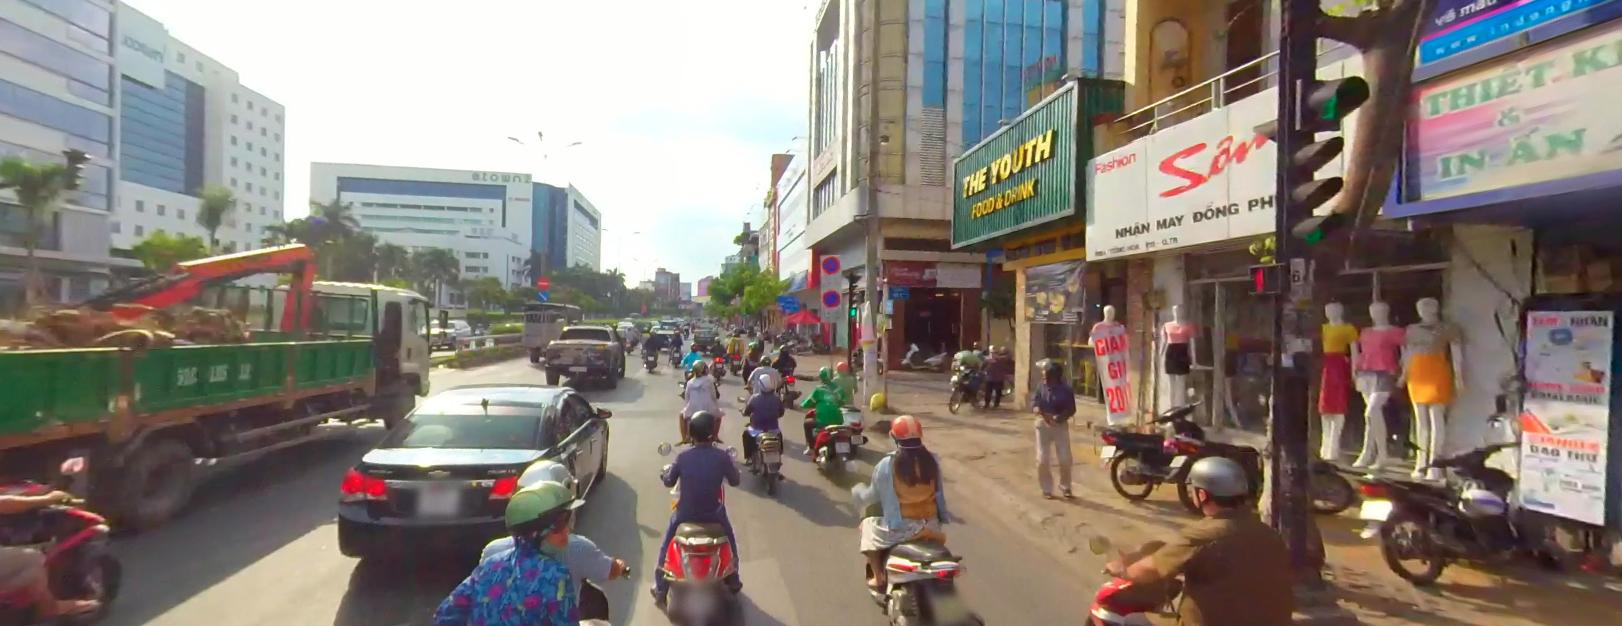Cam dung va do: (821, 255, 840, 273), (822, 288, 839, 305)
Cam nguoc chieu: (536, 276, 548, 288)
Hieu lenh: (537, 289, 548, 301)
